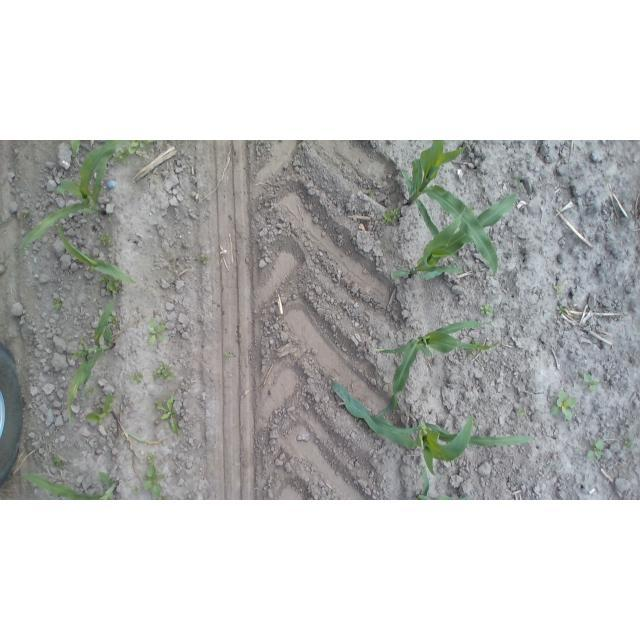Maize: (328, 377, 537, 476), (390, 176, 520, 282), (19, 140, 127, 262), (402, 141, 499, 276), (373, 320, 499, 420), (66, 298, 118, 423), (57, 225, 136, 284), (16, 472, 118, 500), (111, 409, 159, 455), (418, 464, 468, 500), (82, 391, 116, 425), (70, 140, 83, 160)
Weeds: (155, 395, 180, 434), (551, 389, 577, 421), (143, 463, 167, 497), (100, 276, 130, 300), (148, 318, 167, 347), (379, 205, 402, 228), (128, 141, 157, 156), (585, 438, 605, 459), (154, 360, 172, 381), (582, 373, 600, 394), (112, 146, 130, 165), (552, 281, 567, 299), (100, 233, 113, 247), (622, 439, 635, 452), (479, 303, 493, 315), (53, 297, 64, 312), (53, 453, 63, 468), (128, 372, 140, 384), (107, 316, 118, 328), (147, 452, 158, 464), (555, 304, 567, 315), (200, 254, 209, 265), (86, 386, 95, 395), (517, 408, 527, 416), (365, 187, 373, 197), (131, 486, 138, 494), (224, 351, 231, 359), (108, 218, 114, 225)
